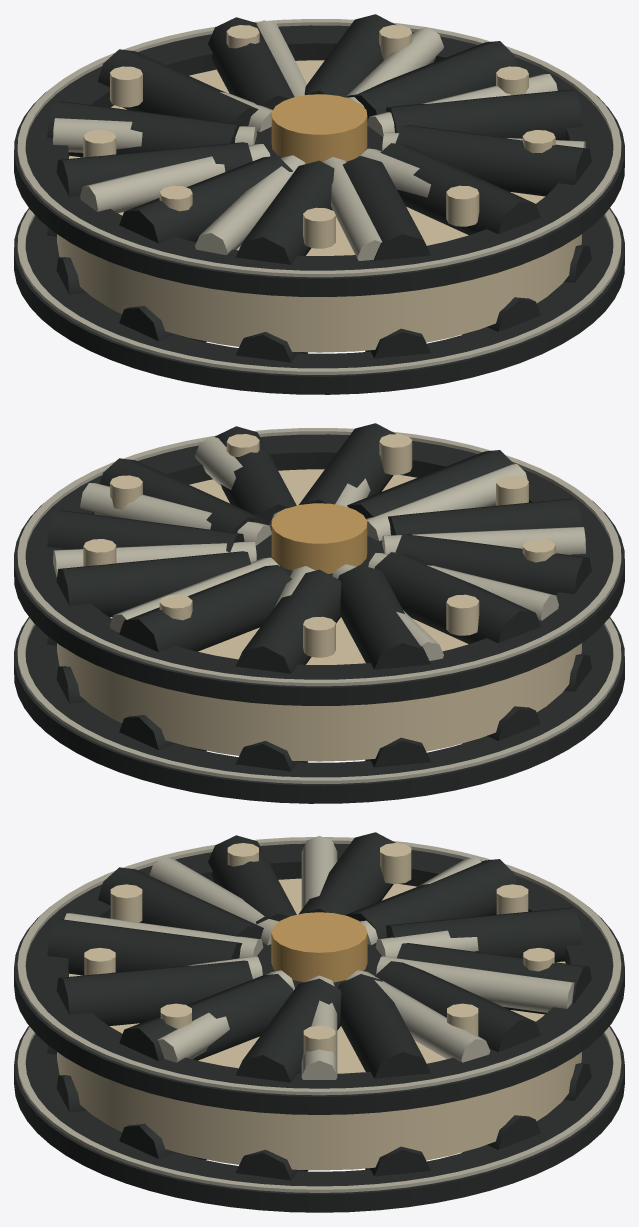
Rendered from Foundry.glb.
The picture shows the model from 3 angles, top to bottom: view 1: azimuth 30°, elevation 25°; view 2: azimuth 150°, elevation 25°; view 3: azimuth 270°, elevation 25°; orthographic projection.
Parts seen in each view (by area): view 1: Pressed web (×18), Stamped outer rim (×2), Wound correction stock, Raised spoke (×9), Pressed lip (×2), Take-up pin (×9), Spindle, Spool hub; view 2: Pressed web (×18), Stamped outer rim (×2), Wound correction stock, Raised spoke (×9), Pressed lip (×2), Take-up pin (×9), Spindle, Spool hub; view 3: Pressed web (×18), Stamped outer rim (×2), Wound correction stock, Raised spoke (×9), Pressed lip (×2), Take-up pin (×9), Spindle, Spool hub.
Boxes of the visible parts, x1,y1,x2,y2 form: Pressed web (×18): [47, 14, 591, 362]; Stamped outer rim (×2): [14, 25, 624, 394]; Wound correction stock: [57, 60, 581, 352]; Raised spoke (×9): [53, 20, 557, 260]; Pressed lip (×2): [17, 19, 621, 374]; Take-up pin (×9): [83, 25, 555, 248]; Spindle: [271, 94, 367, 163]; Spool hub: [254, 118, 383, 162]; Pressed web (×18): [47, 423, 591, 771]; Stamped outer rim (×2): [14, 434, 624, 803]; Wound correction stock: [57, 469, 581, 761]; Raised spoke (×9): [53, 436, 585, 660]; Pressed lip (×2): [17, 428, 621, 783]; Take-up pin (×9): [83, 434, 555, 657]; Spindle: [271, 503, 367, 573]; Spool hub: [255, 524, 384, 576]; Pressed web (×18): [47, 832, 591, 1180]; Stamped outer rim (×2): [14, 843, 624, 1212]; Wound correction stock: [57, 878, 581, 1170]; Raised spoke (×9): [64, 836, 574, 1079]; Pressed lip (×2): [17, 837, 621, 1192]; Take-up pin (×9): [84, 843, 554, 1055]; Spindle: [271, 912, 367, 982]; Spool hub: [257, 942, 381, 988].
Bounding box in the file's own units: 0.85 × 0.253 × 0.85.
